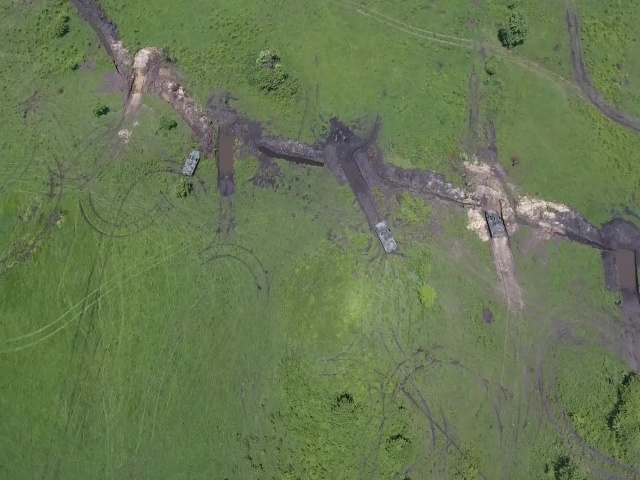vehicle: (375, 219, 398, 253), (484, 206, 505, 239), (180, 149, 202, 176)
